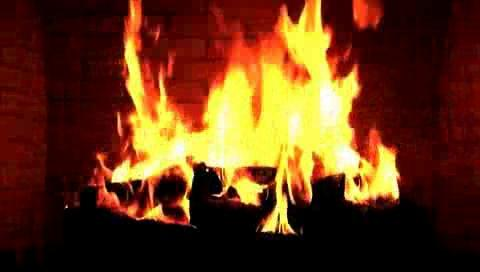fire: (113, 15, 393, 213)
